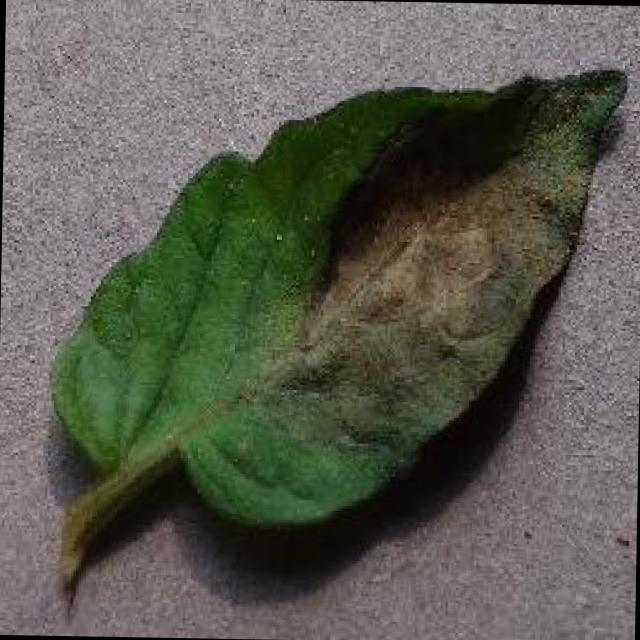Tomato_Late_Blight: (284, 93, 582, 420)
